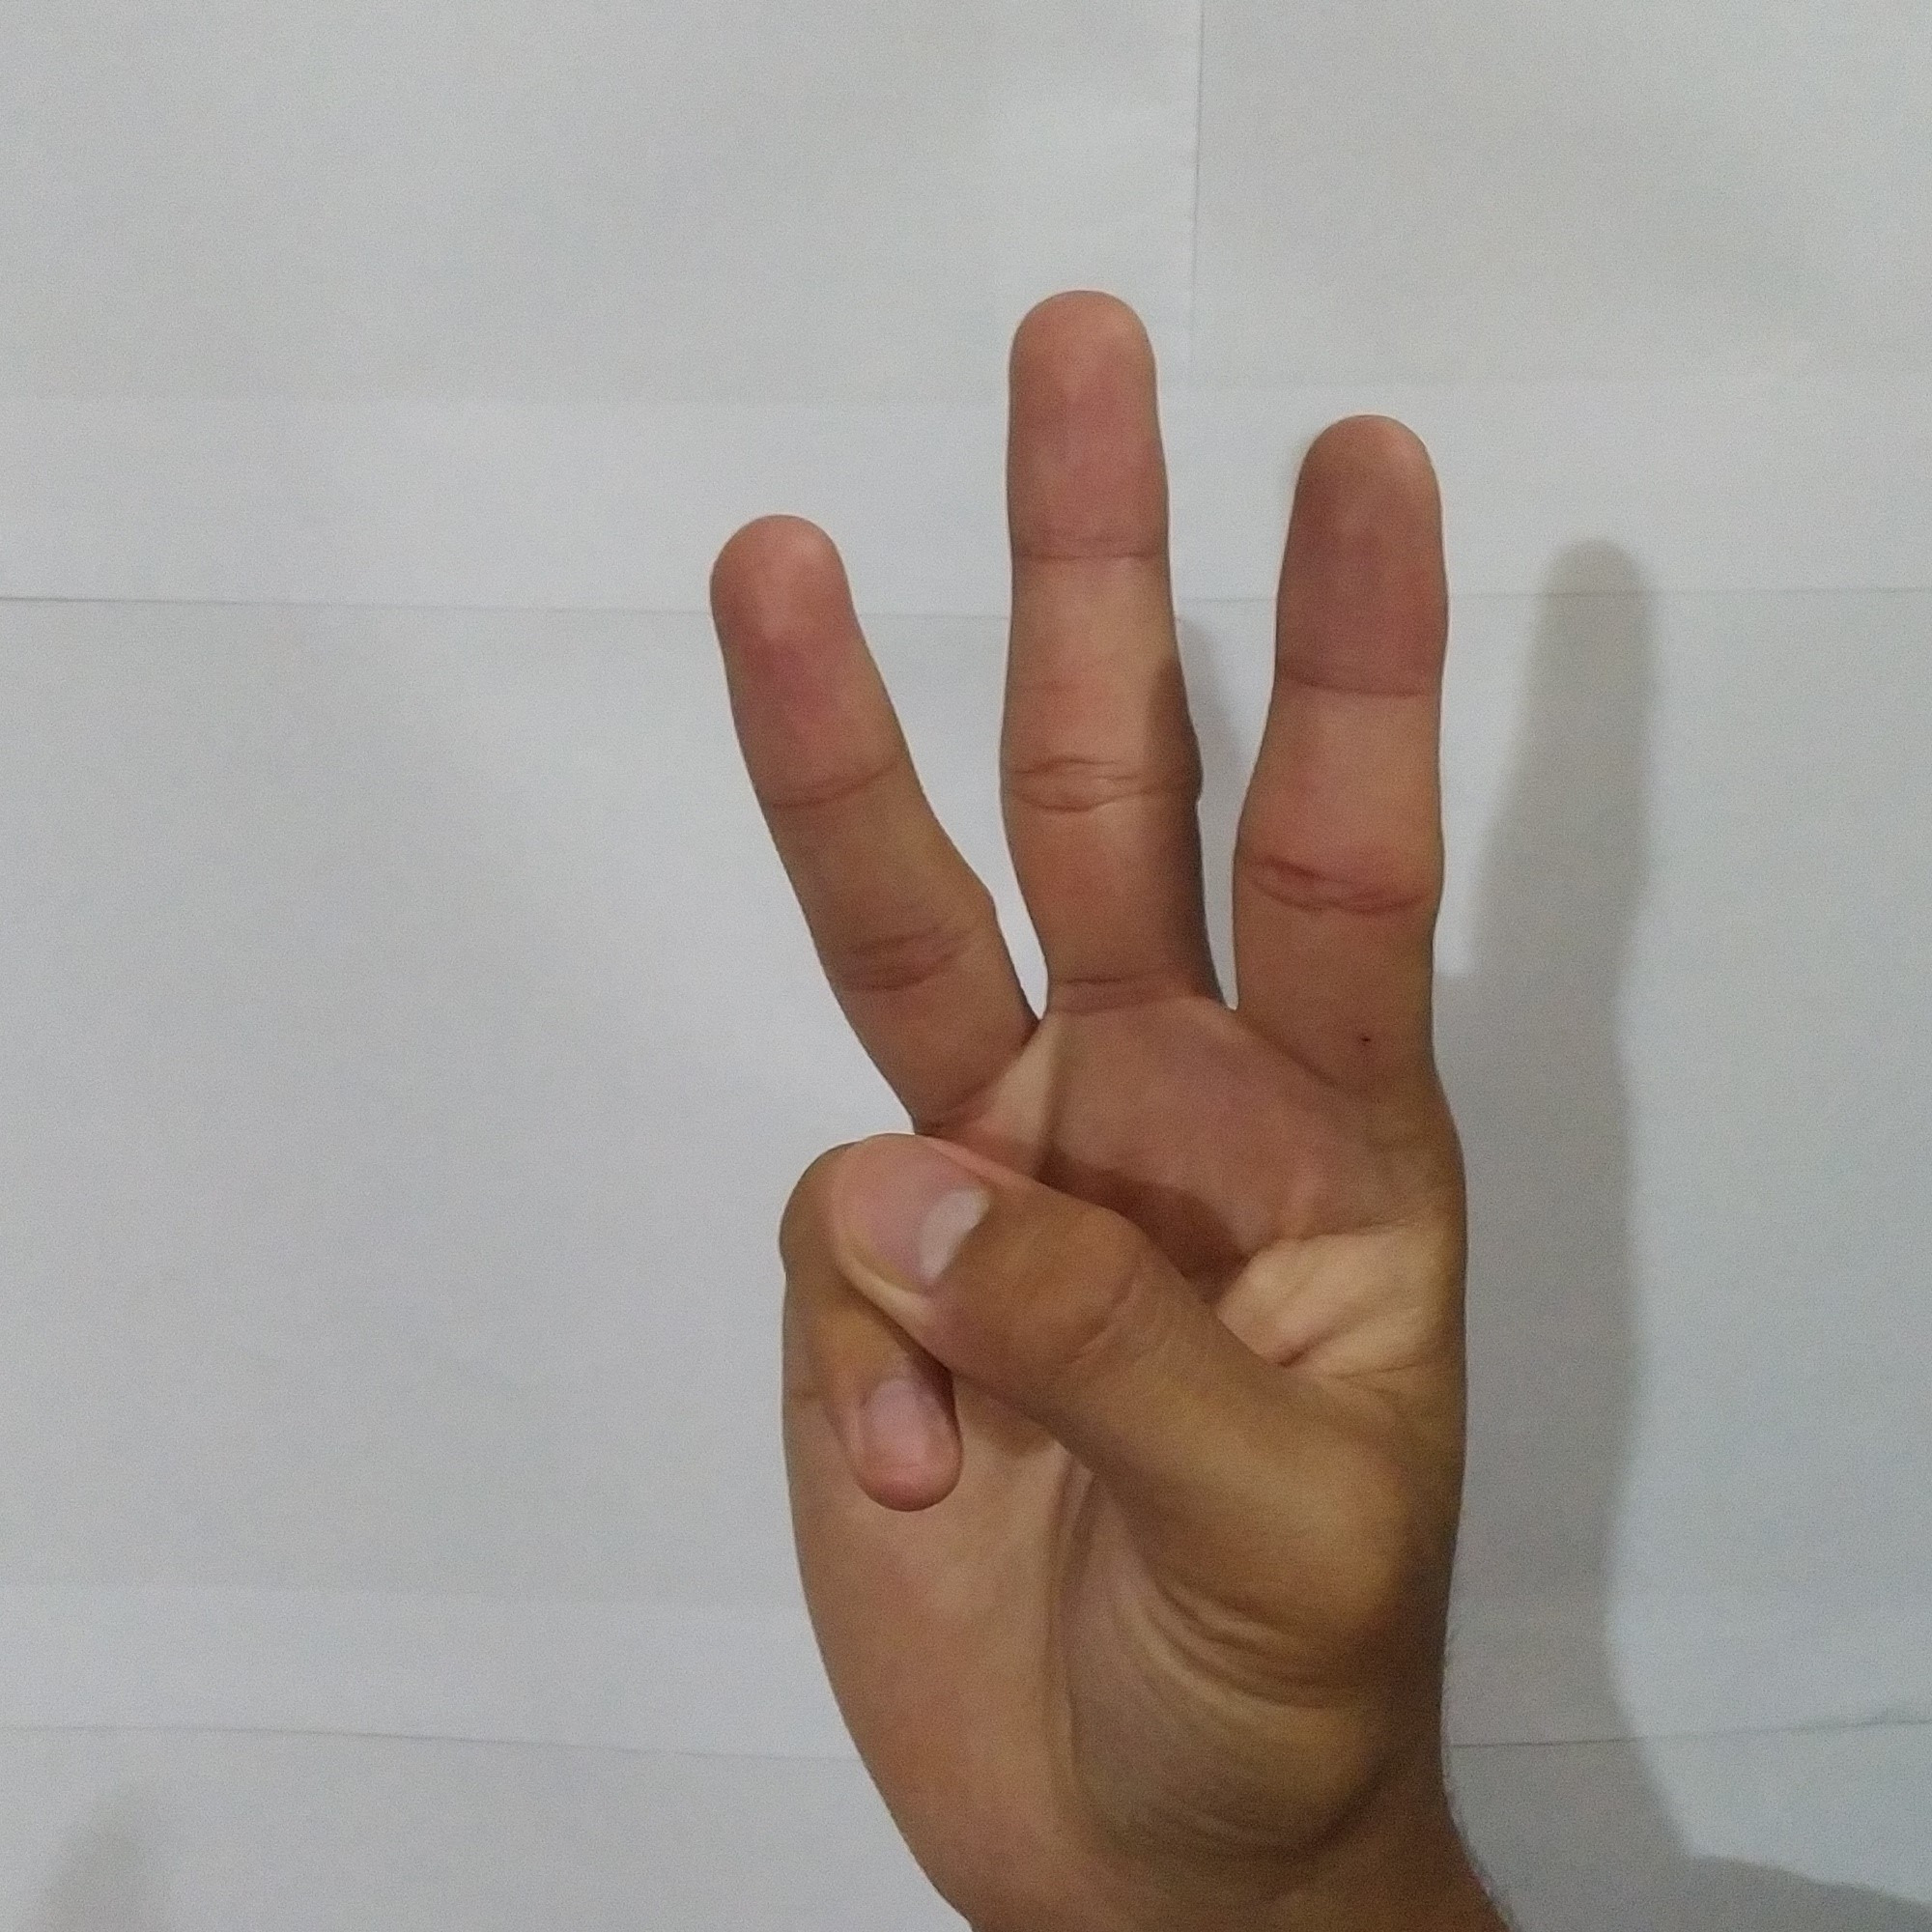W: (671, 260, 1518, 1932)
